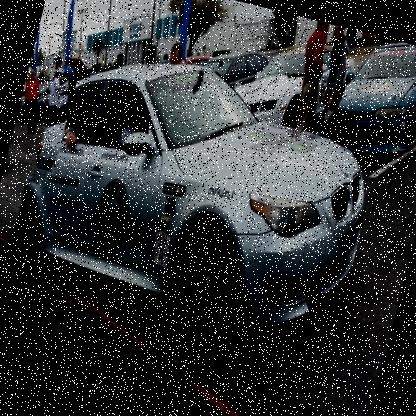Car: (0, 0, 415, 370), (3, 65, 78, 183)
